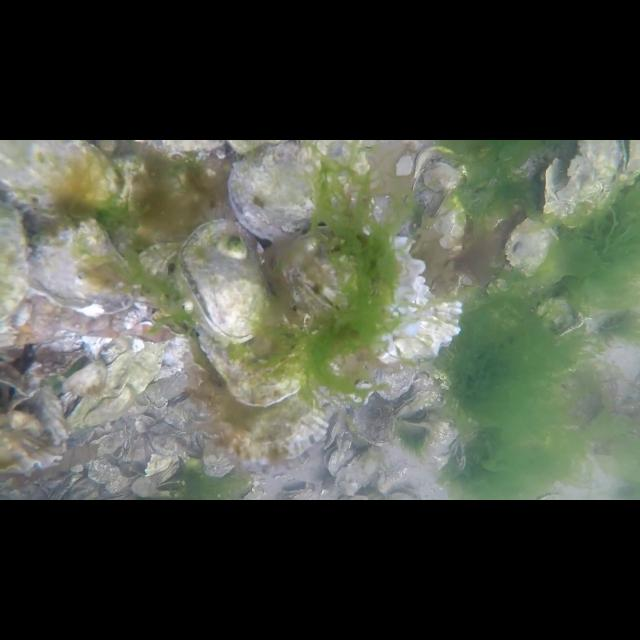Oyster-Closed: (283, 232, 461, 366), (204, 354, 330, 462), (198, 293, 316, 405), (26, 218, 140, 318), (67, 344, 165, 428), (0, 140, 118, 207), (542, 140, 622, 218), (424, 188, 468, 258), (0, 428, 62, 472), (412, 146, 466, 194), (350, 392, 398, 446), (502, 222, 550, 274), (335, 450, 379, 496), (372, 359, 414, 401), (203, 434, 234, 478), (323, 410, 347, 448)
Oyster-Open: (228, 140, 370, 242), (178, 218, 272, 344), (322, 445, 354, 477), (618, 140, 640, 178), (392, 392, 422, 418), (402, 410, 431, 428)
